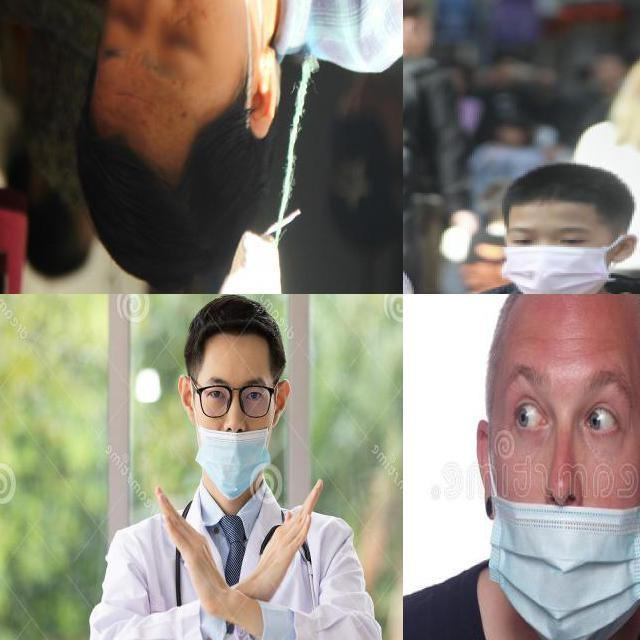hairnet: (458, 353, 635, 640), (172, 368, 303, 506)
mask: (495, 238, 639, 293)
no_apron: (236, 472, 330, 616), (147, 481, 236, 626)
no_gloves: (68, 81, 286, 292), (482, 292, 640, 405), (497, 150, 635, 252), (176, 294, 290, 404)
